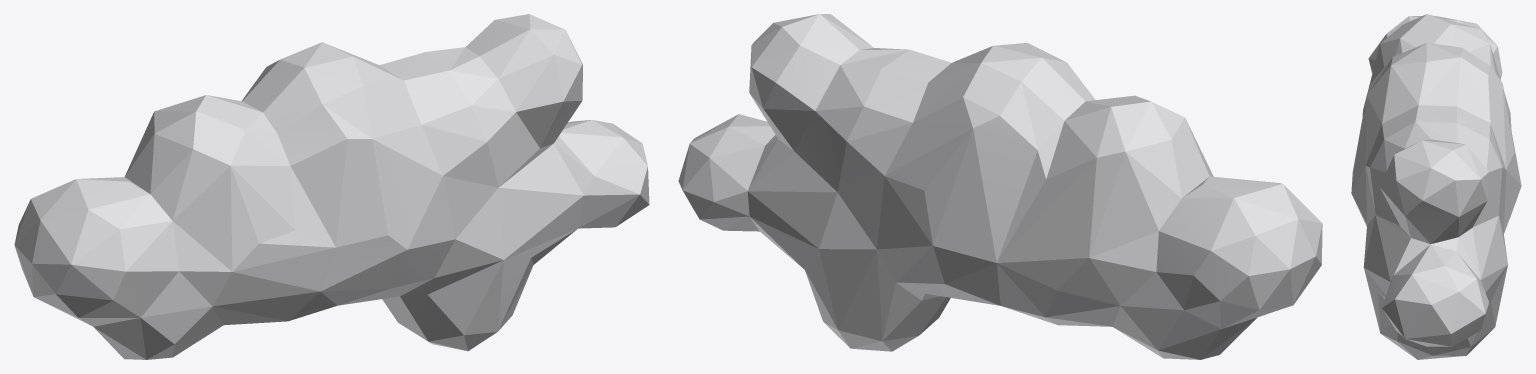
The model's file is small_cloud_19.fbx.
3 views of the same model, side by side, from view 1: azimuth 30°, elevation 25°; view 2: azimuth 150°, elevation 25°; view 3: azimuth 270°, elevation 25° (orthographic). The views are drawn at different scales.
Visible parts, largest first — view 1: cloud_19; view 2: cloud_19; view 3: cloud_19.
Boxes of the visible parts, left/top/right/bottom form: cloud_19: left=14, top=14, right=649, bottom=359; cloud_19: left=678, top=14, right=1322, bottom=359; cloud_19: left=1351, top=14, right=1521, bottom=359.
Bounding box in the file's own units: 658 × 324 × 196.
